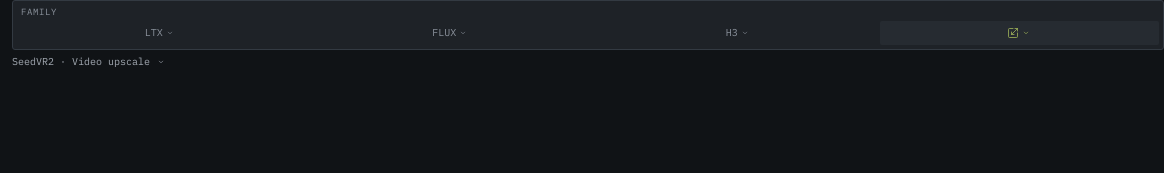
the Upscale family › keeps SeedVR2 alone with Open only, and says FLUX is hidden
Click the button named "Upscale models": (1019, 33) [880,21,1159,45]
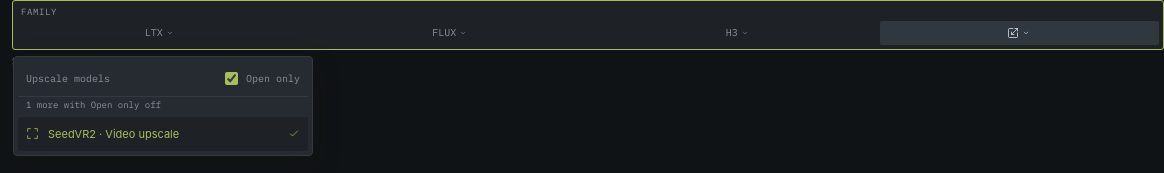
Expected: the text with class "family-model__hidden" reads "1 more with Open only off", [26,99,161,110]
